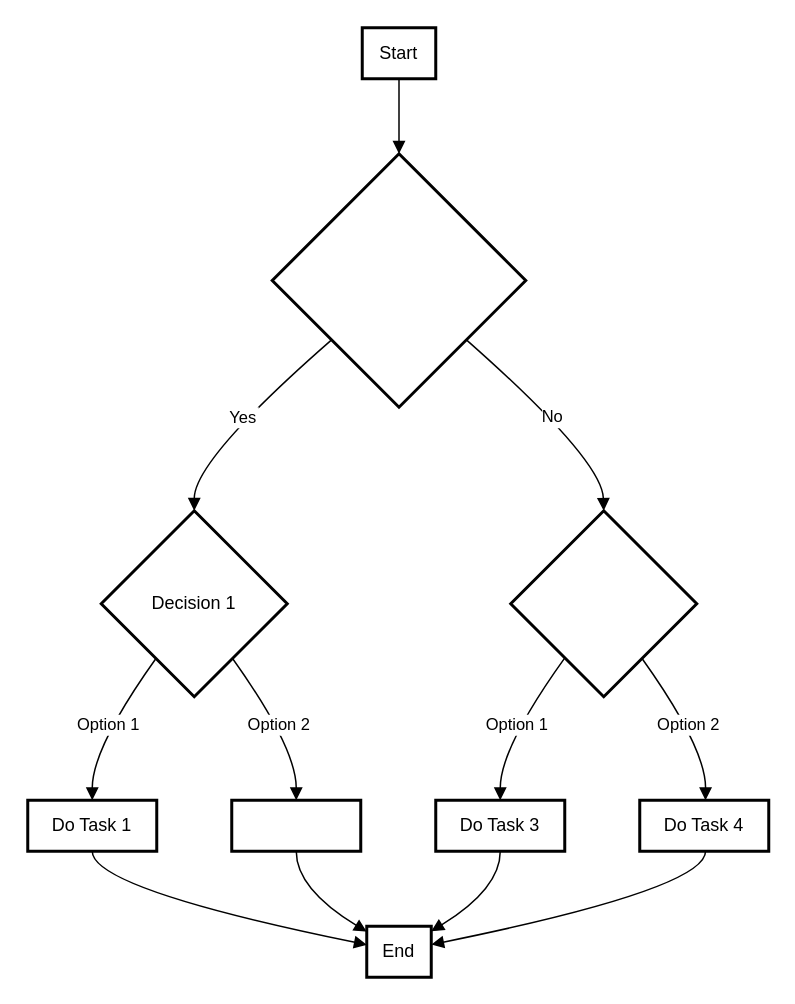
This 795x1004 diagram has some shape labels left out. Here are the shapes that lost their labels. From the top down, the centre of each, then its label:
[398,280]: Make A Decision
[603,603]: Decision 2
[296,825]: Do Task 2
